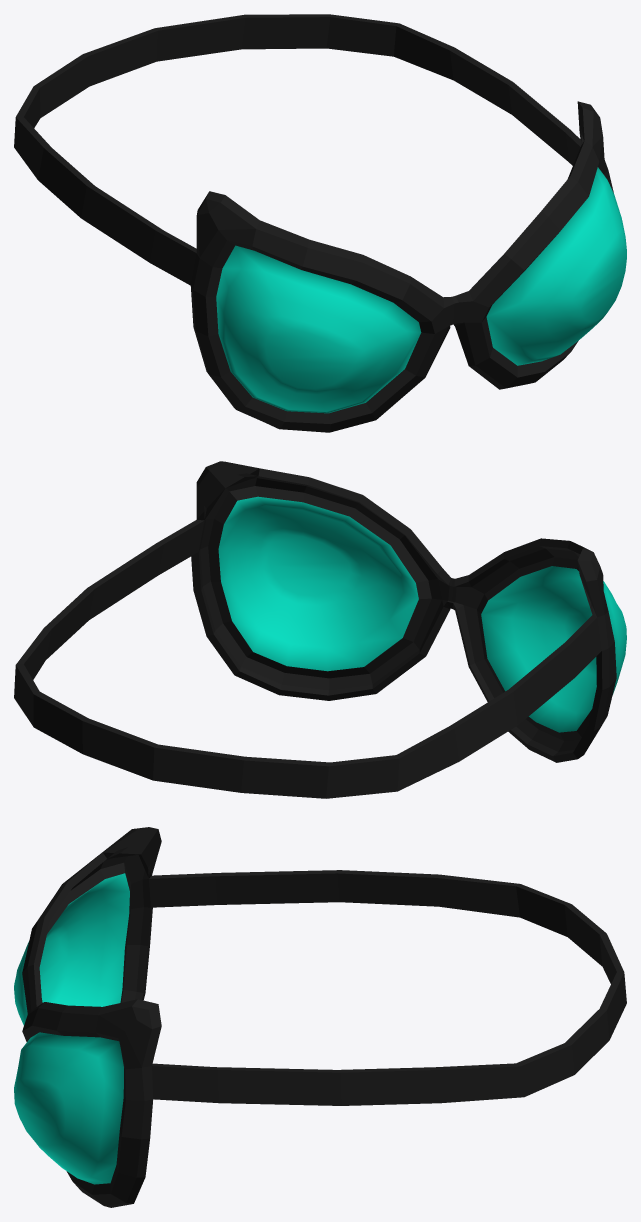
File: Spysuit_Goggles.glb
The picture shows the model from 3 angles, top to bottom: view 1: azimuth 30°, elevation 25°; view 2: azimuth 150°, elevation 25°; view 3: azimuth 270°, elevation 25°; orthographic projection. The views are drawn at different scales.
Parts seen in each view (by area): view 1: Spysuit_Goggles; view 2: Spysuit_Goggles; view 3: Spysuit_Goggles.
Part boxes in pixels (x1,y1,x2,y2): Spysuit_Goggles: (14,14,626,432); Spysuit_Goggles: (14,461,626,798); Spysuit_Goggles: (14,827,626,1207).
Size of what is drawn, in the model's own units: 0.8974 by 0.4685 by 1.12.
1 material, 1 textured.
